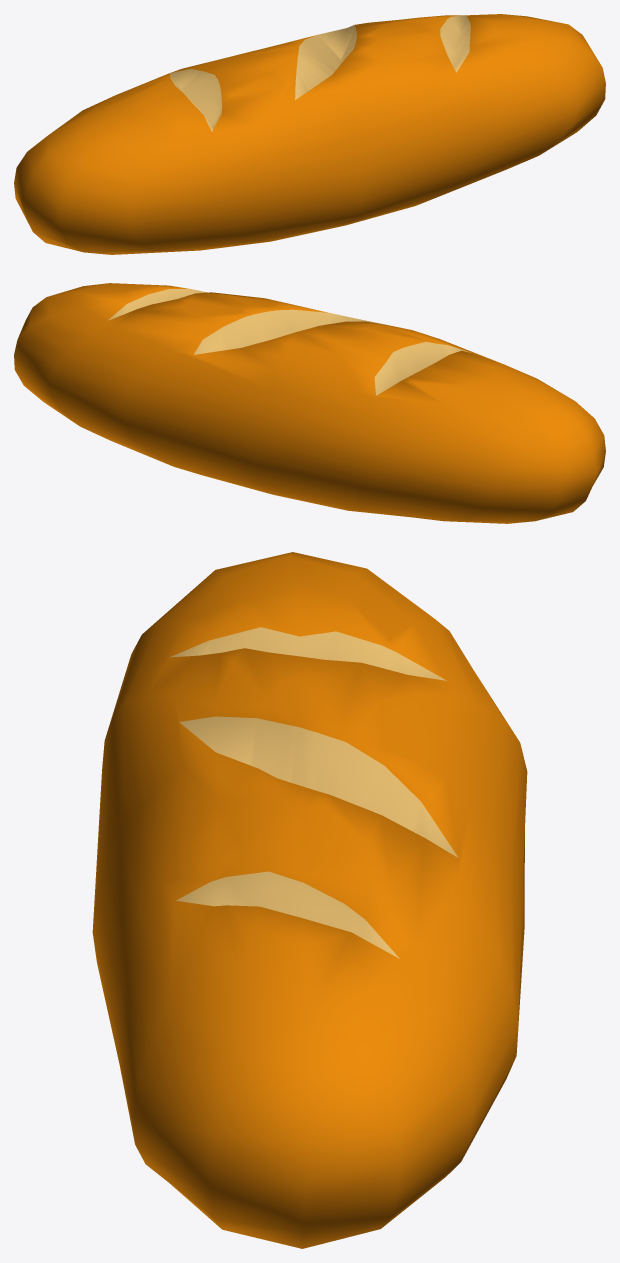
The model's file is Bread.glb.
3 renders of one model, top to bottom at view 1: azimuth 30°, elevation 25°; view 2: azimuth 150°, elevation 25°; view 3: azimuth 270°, elevation 25°, orthographic. The views are drawn at different scales.
Visible parts, largest first — view 1: Sphere; view 2: Sphere; view 3: Sphere.
Part boxes in pixels (<box>): Sphere: <box>14,14,605,254</box>; Sphere: <box>14,283,605,523</box>; Sphere: <box>92,552,527,1248</box>.
Bounding box in the file's own units: 0.2794 × 0.0744 × 0.0914.
